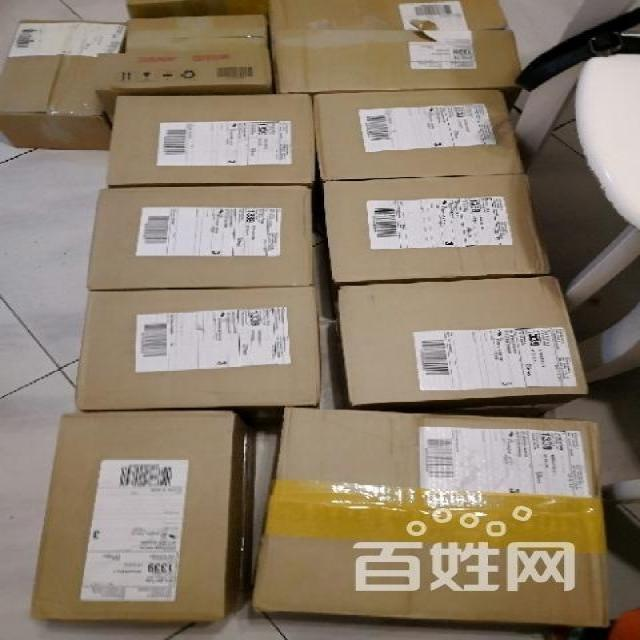box: (251, 409, 609, 627), (27, 410, 255, 622), (336, 276, 589, 404), (75, 287, 321, 411), (323, 175, 553, 285), (87, 185, 315, 291), (313, 90, 527, 181), (107, 93, 315, 186), (0, 19, 125, 150), (271, 30, 523, 93), (95, 48, 275, 124), (267, 0, 509, 31), (124, 16, 271, 52), (127, 0, 269, 18)
